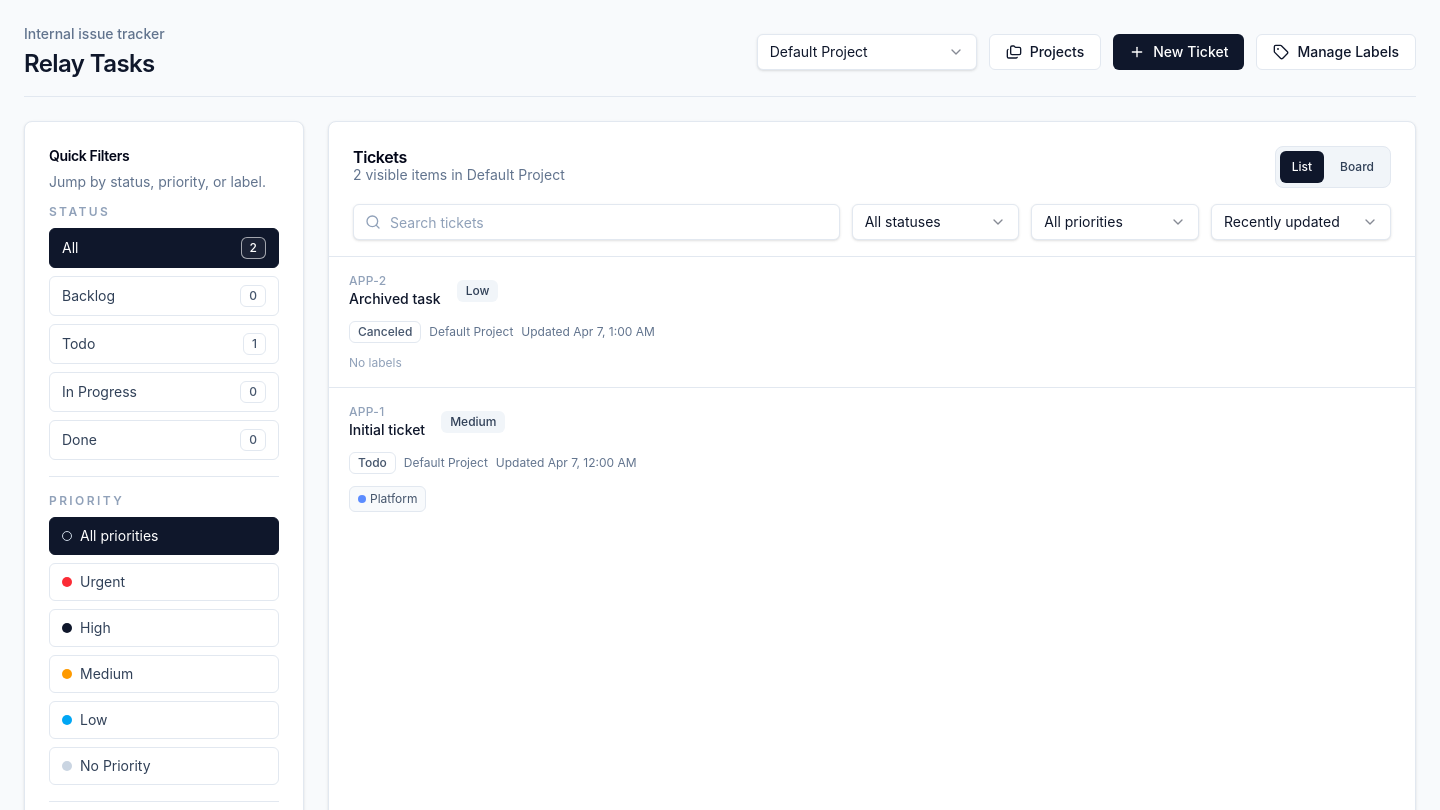
Scenario: App › shows the board empty state for canceled tickets
Expected: the button "Initial ticket" is shown, top-left (329, 388), bottom-right (1415, 528)
Click the button "Board". click: coordinates (1357, 167)
box: top-left (1328, 151), bottom-right (1386, 183)
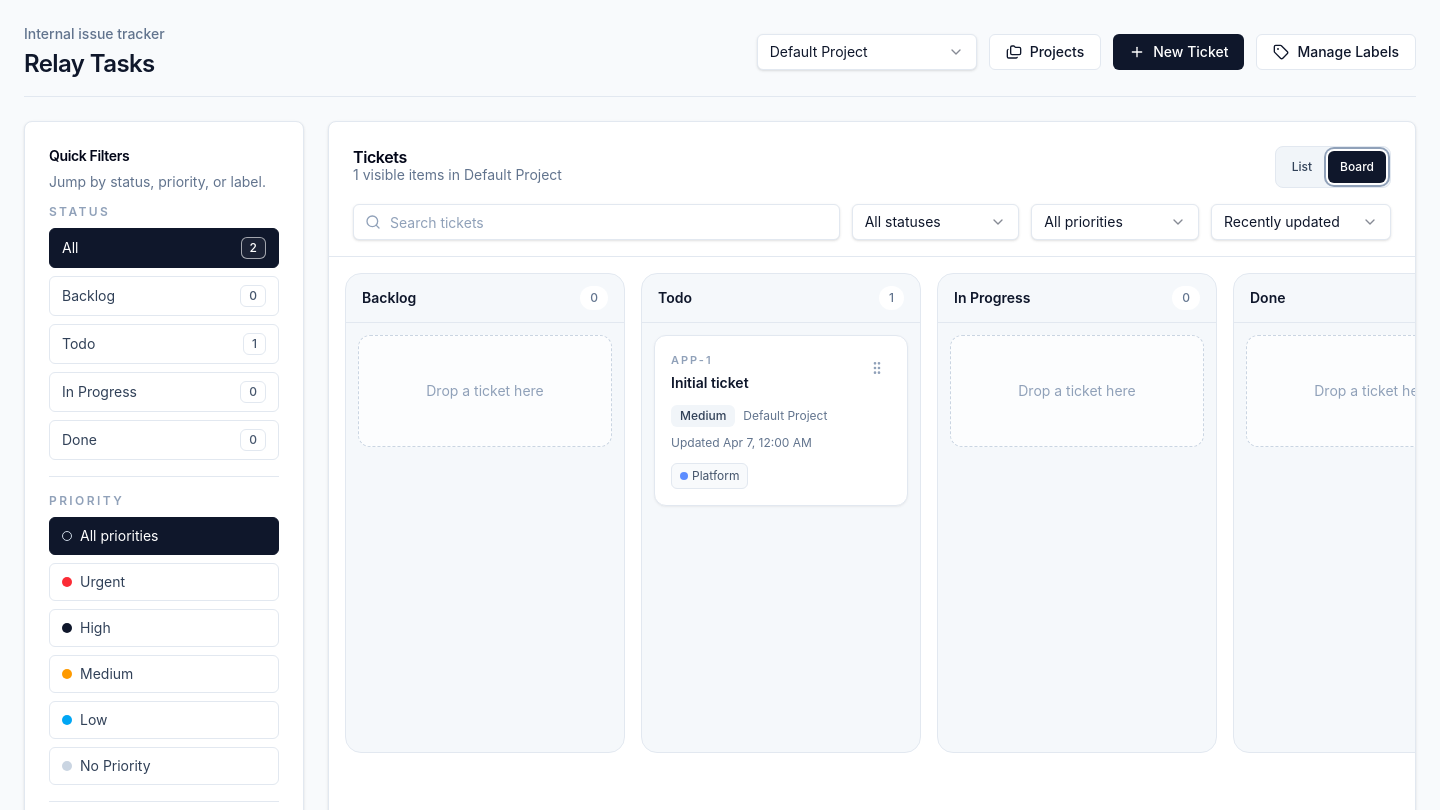
Click the dropdown named "Filter by status". click: coordinates (936, 222)
box: top-left (852, 204), bottom-right (1019, 240)
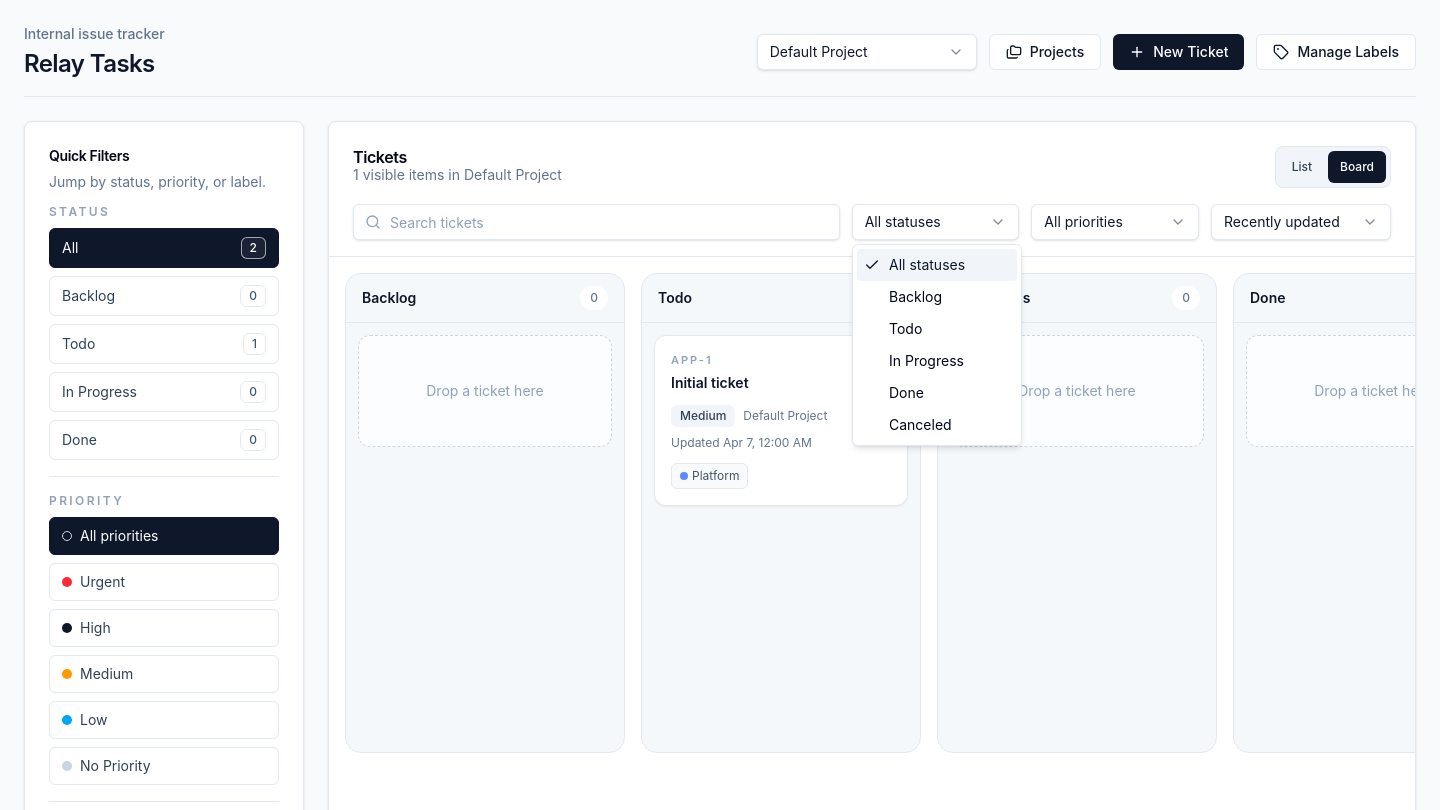
Click the option "Canceled". click: coordinates (920, 424)
box: top-left (889, 416), bottom-right (952, 433)
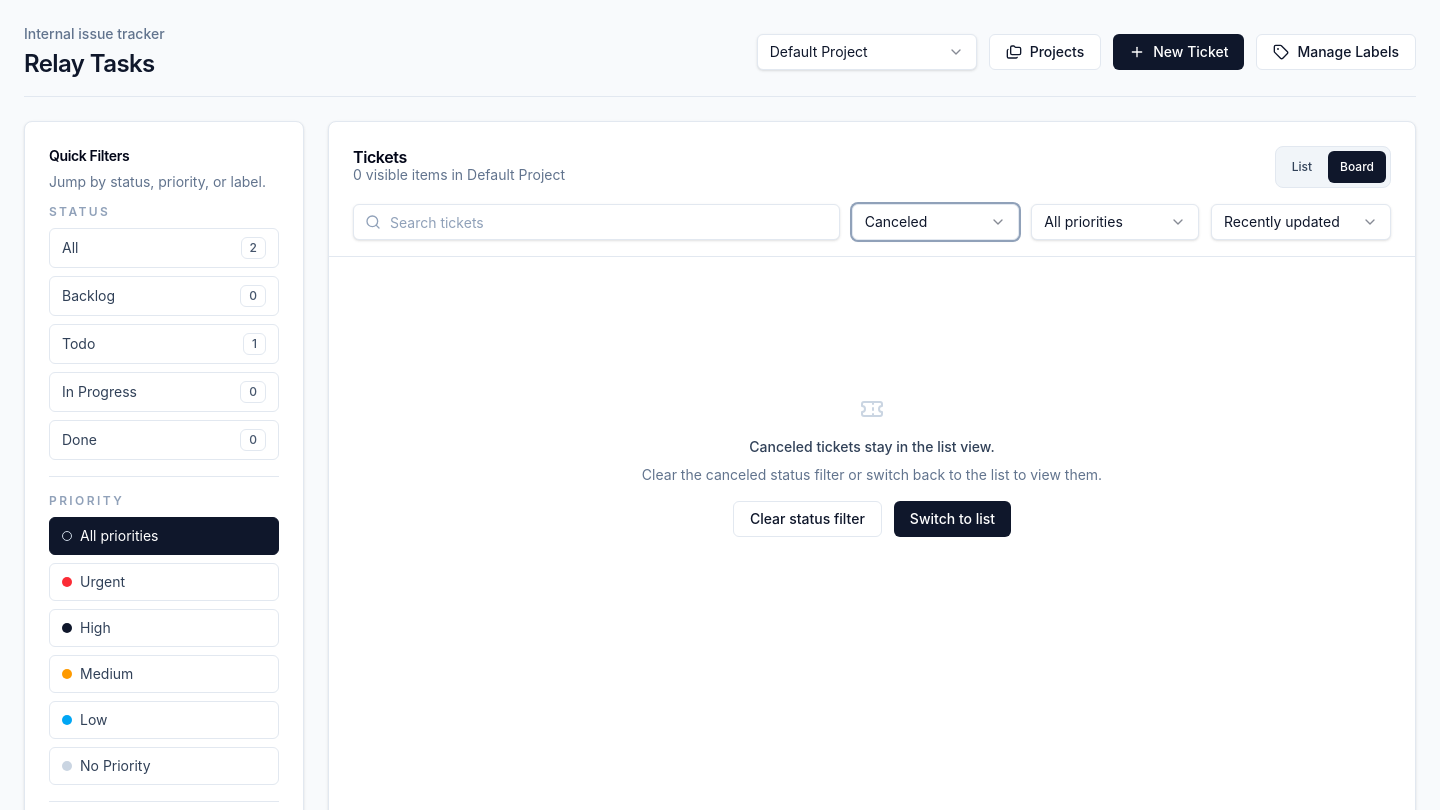
Result: the text "Canceled tickets stay in the list view." is shown at top-left (749, 438), bottom-right (995, 455)
Click the button "Clear status filter". click: coordinates (807, 519)
box: top-left (733, 501), bottom-right (882, 537)
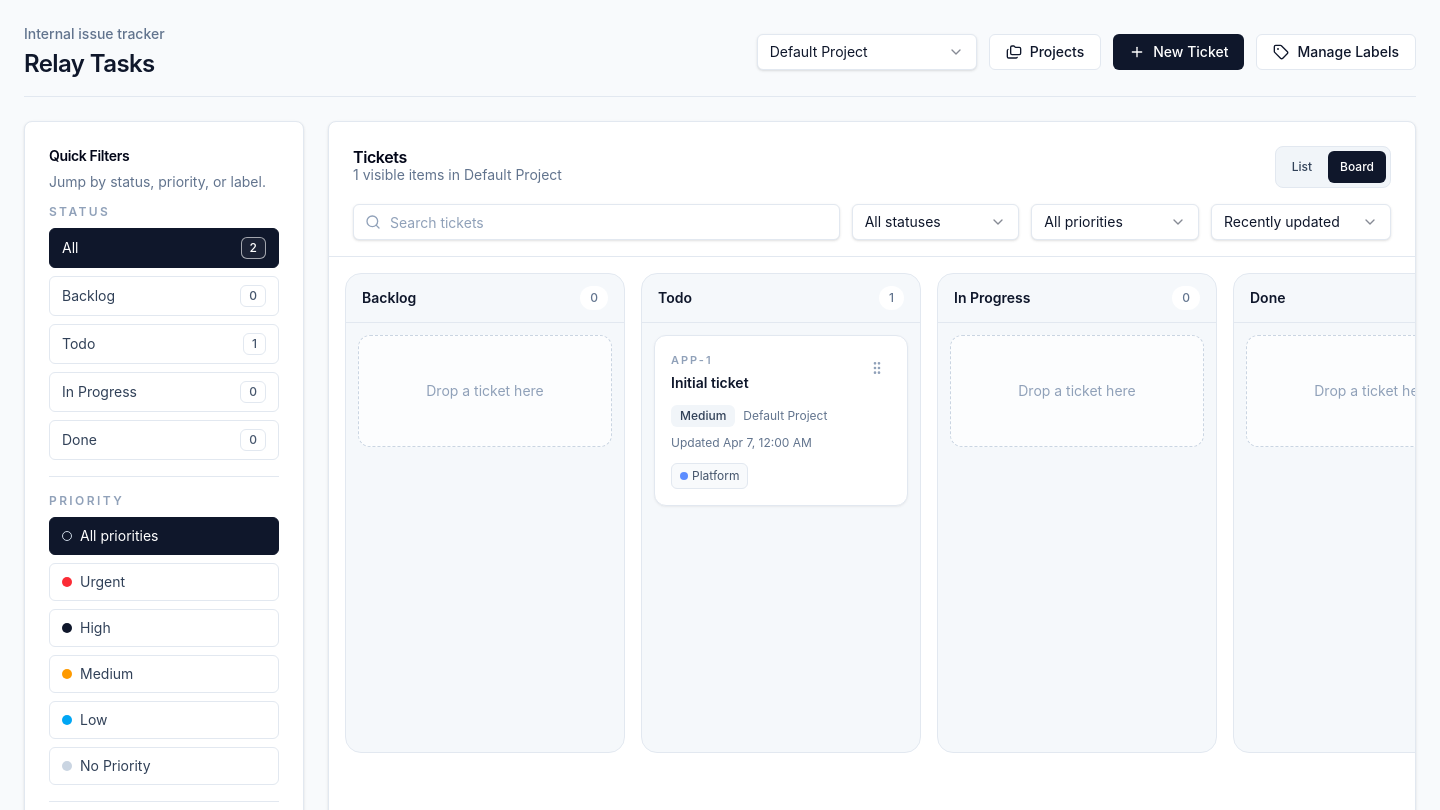
Result: the text "Canceled tickets stay in the list view." is gone
Result: the element "Todo" is shown at top-left (641, 273), bottom-right (921, 753)
